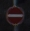No entry: (5, 5, 25, 26)
